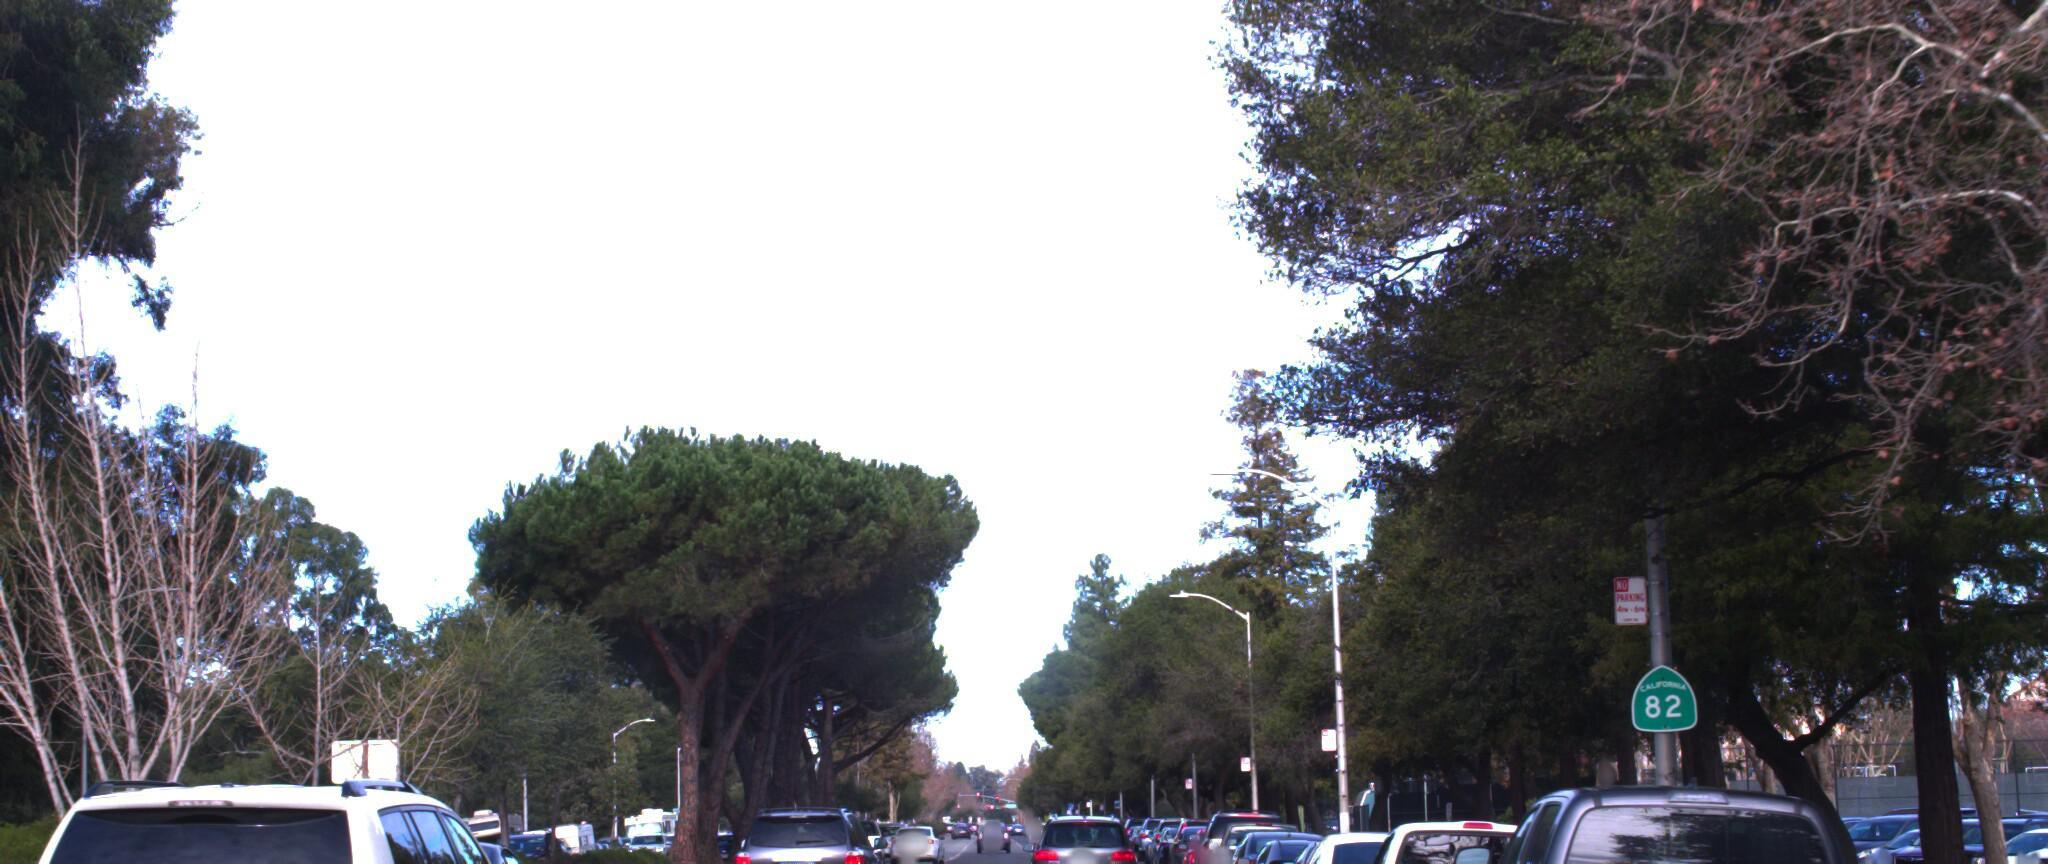car: (0, 724, 593, 864), (1424, 741, 1988, 864), (1324, 765, 1654, 864), (1657, 814, 2048, 864), (1267, 794, 1528, 864), (722, 777, 895, 864), (1230, 801, 1401, 864), (1027, 786, 1145, 864), (1203, 788, 1324, 864)
